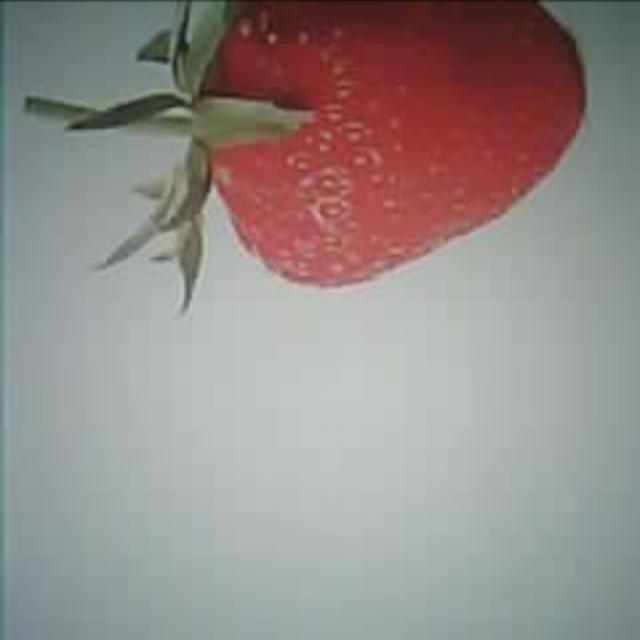strawberry: (198, 0, 586, 287)
